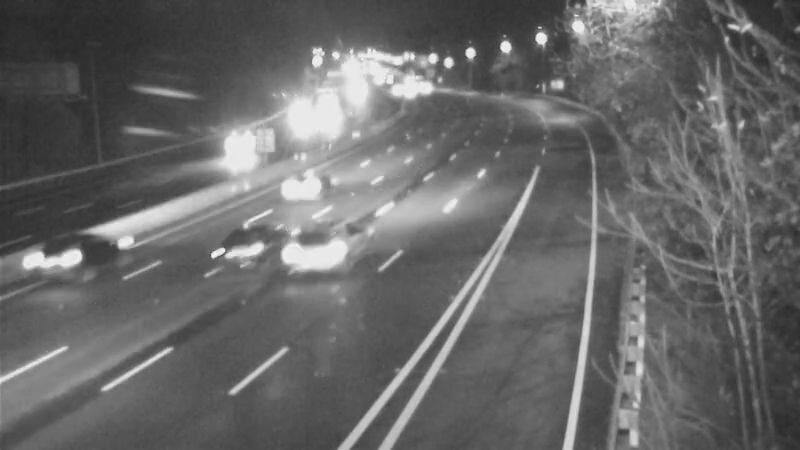vehicle: (262, 144, 342, 224), (271, 206, 351, 286), (195, 209, 275, 289), (15, 222, 95, 302), (194, 110, 274, 190)
